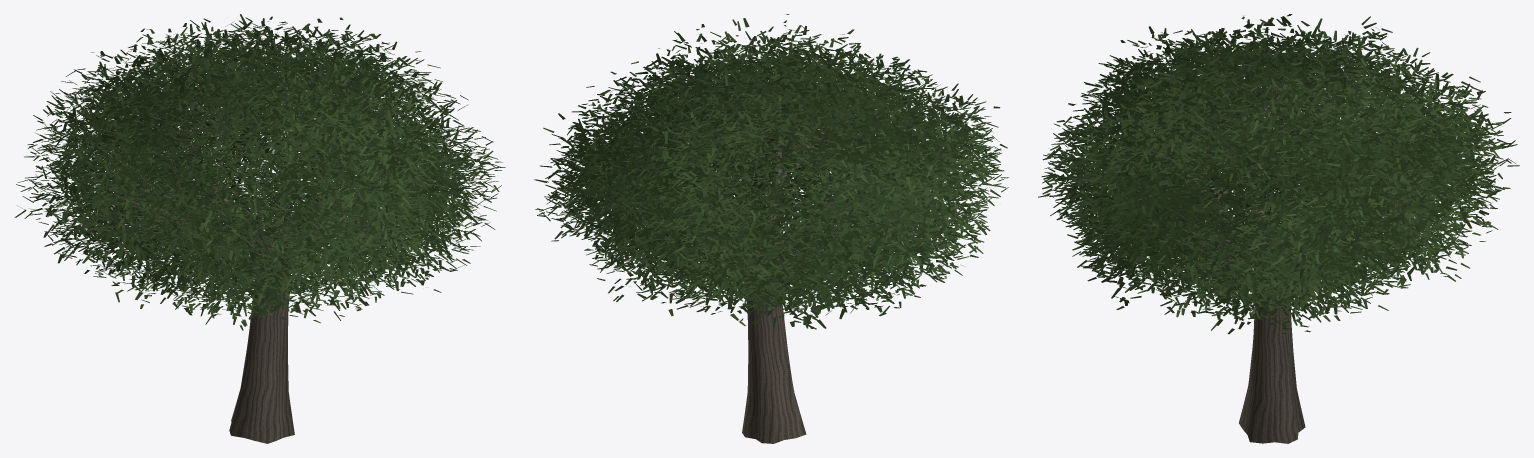
The model's file is loak2.glb.
3 renders of one model, left to right at view 1: azimuth 30°, elevation 25°; view 2: azimuth 150°, elevation 25°; view 3: azimuth 270°, elevation 25°, orthographic. The views are drawn at different scales.
Parts seen in each view (by area): view 1: loak2_lod0_1, loak2_lod0_0; view 2: loak2_lod0_1, loak2_lod0_0; view 3: loak2_lod0_1, loak2_lod0_0.
Part boxes in pixels (box(x1,y1,x2,y2)): loak2_lod0_1: box(14, 14, 505, 330); loak2_lod0_0: box(68, 47, 451, 443); loak2_lod0_1: box(534, 14, 1008, 329); loak2_lod0_0: box(591, 61, 961, 443); loak2_lod0_1: box(1038, 14, 1519, 334); loak2_lod0_0: box(1083, 58, 1468, 443).
Size of what is drawn, in the model's own units: 11.98 by 10.47 by 11.98.
Materials: 2 (1 with a texture image).
